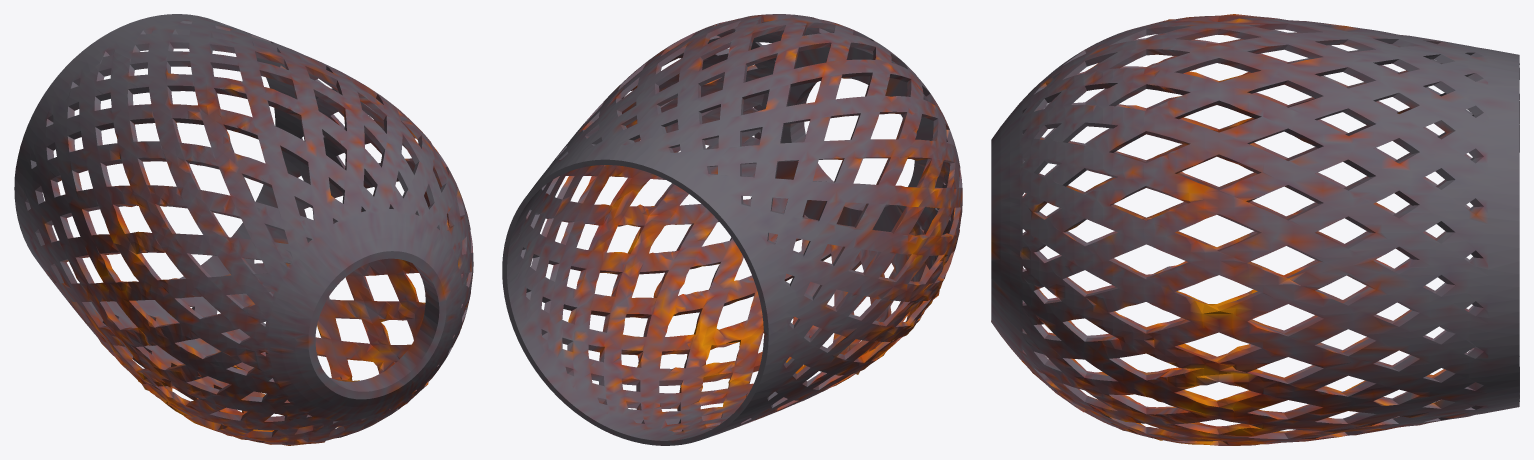
File: lamp_shade_14_final200.obj
The picture shows the model from 3 angles, left to right: view 1: azimuth 30°, elevation 25°; view 2: azimuth 150°, elevation 25°; view 3: azimuth 270°, elevation 25°; orthographic projection. The views are drawn at different scales.
Size of the model in its own units: 1.22 by 1.21 by 1.49.
